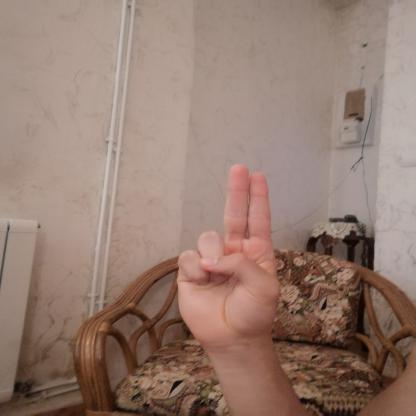TA: (156, 152, 289, 354)
